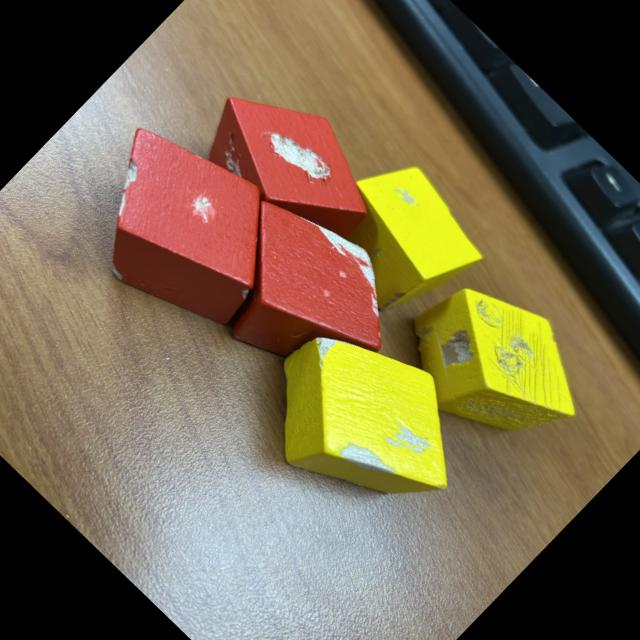broken: (232, 292, 496, 556), (50, 97, 312, 358), (178, 173, 424, 420), (380, 250, 610, 480), (185, 58, 398, 270), (299, 142, 499, 340)
